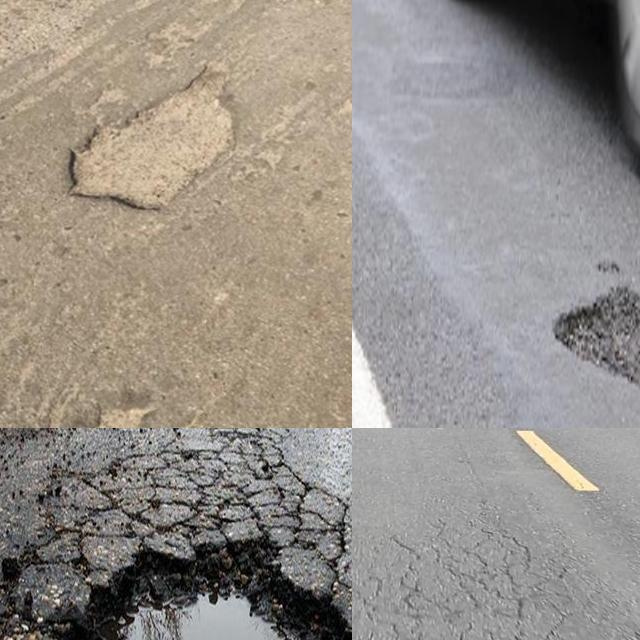Lubang: (97, 546, 350, 640), (63, 81, 244, 210), (571, 284, 640, 377)
Retak Buaya: (0, 428, 346, 601), (352, 531, 619, 640)
